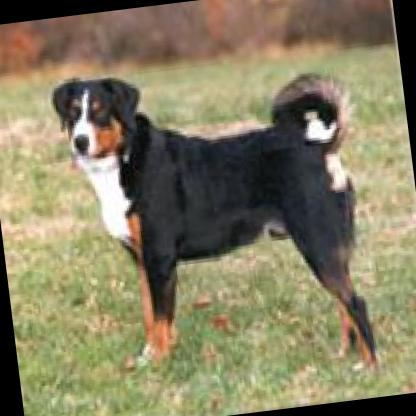Appenzeller: (42, 38, 380, 407)
